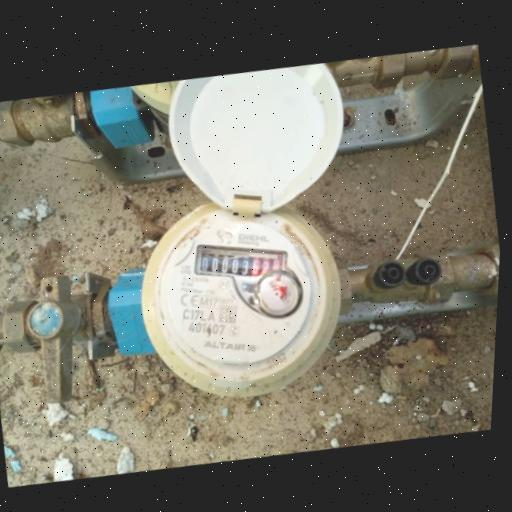0: (215, 252, 234, 275), (225, 253, 244, 276), (205, 252, 224, 274), (196, 250, 213, 272)
2: (255, 254, 273, 277)
3: (237, 253, 255, 277)
6: (246, 255, 263, 277)
8: (268, 252, 284, 272)
border_water_meter_number: (187, 228, 293, 294)
